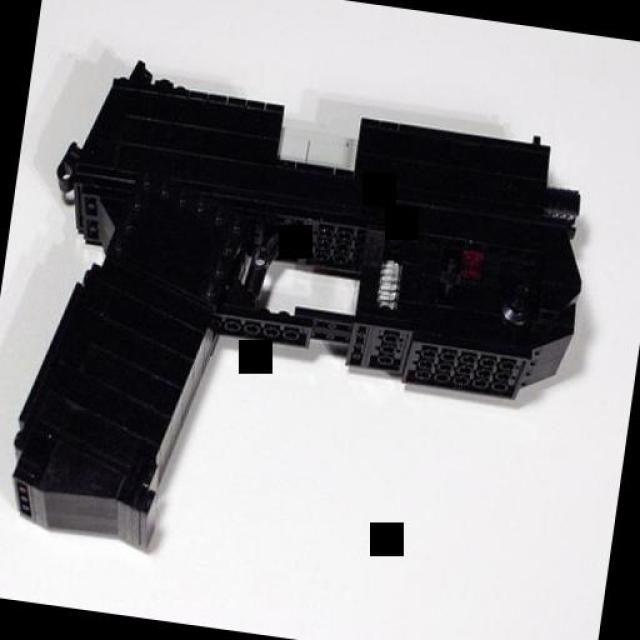gun: (4, 52, 604, 594)
